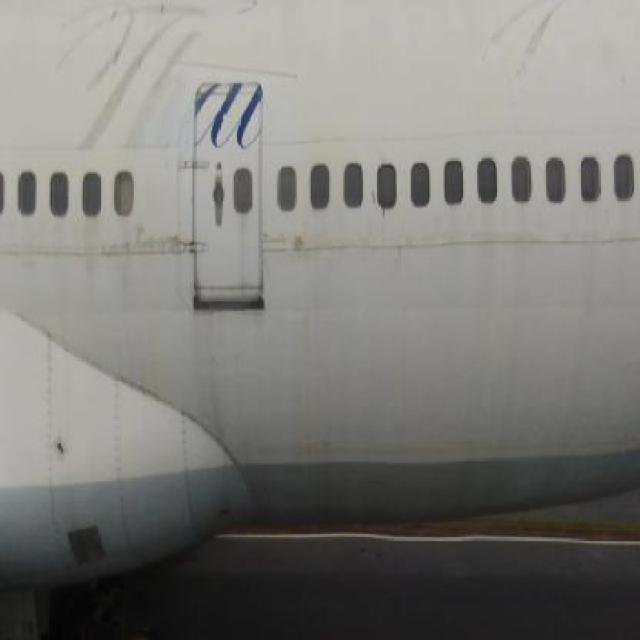Scartch: (68, 0, 218, 149), (468, 1, 590, 84), (138, 229, 220, 262), (260, 227, 322, 261)
